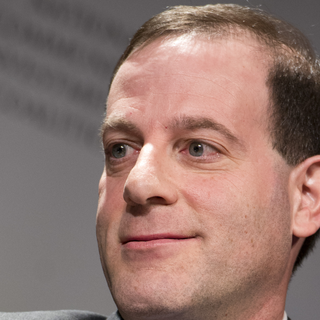eye: (176, 135, 225, 162), (101, 135, 141, 163)
